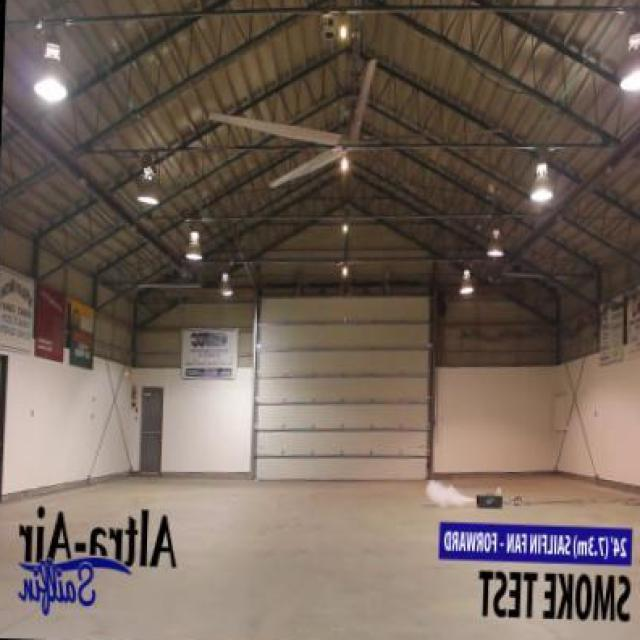fire: (420, 474, 475, 512)
